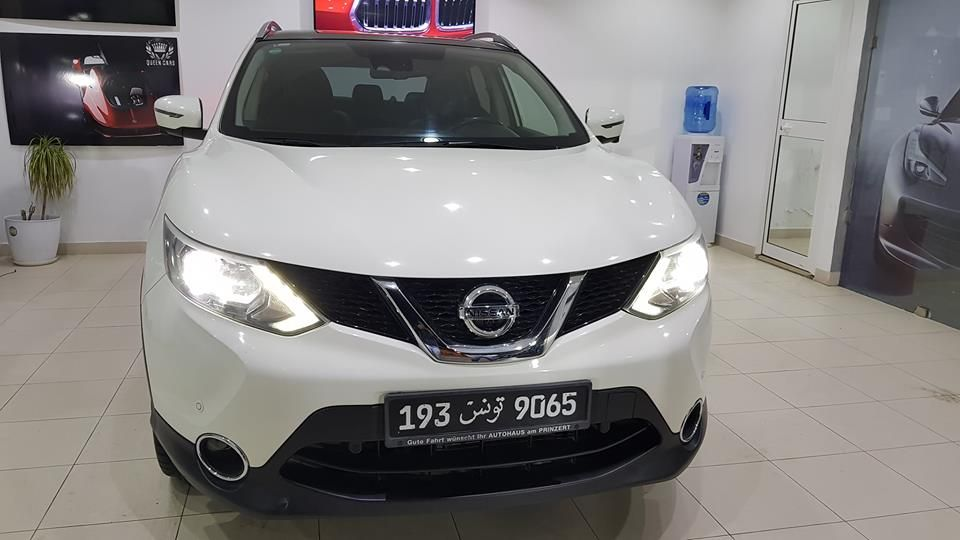LP: (387, 383, 591, 440)
